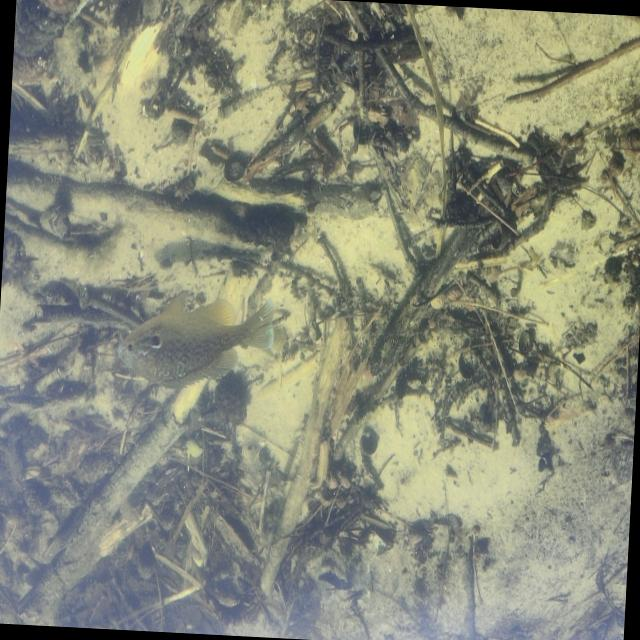Gunes Levregi: (112, 285, 278, 397)
